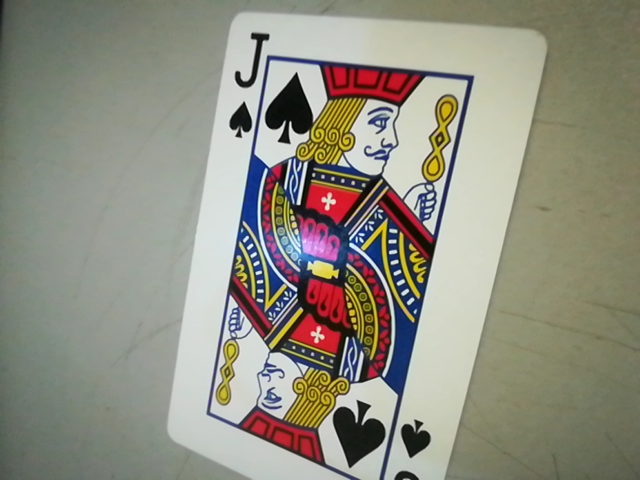ht j: (221, 24, 270, 147)
